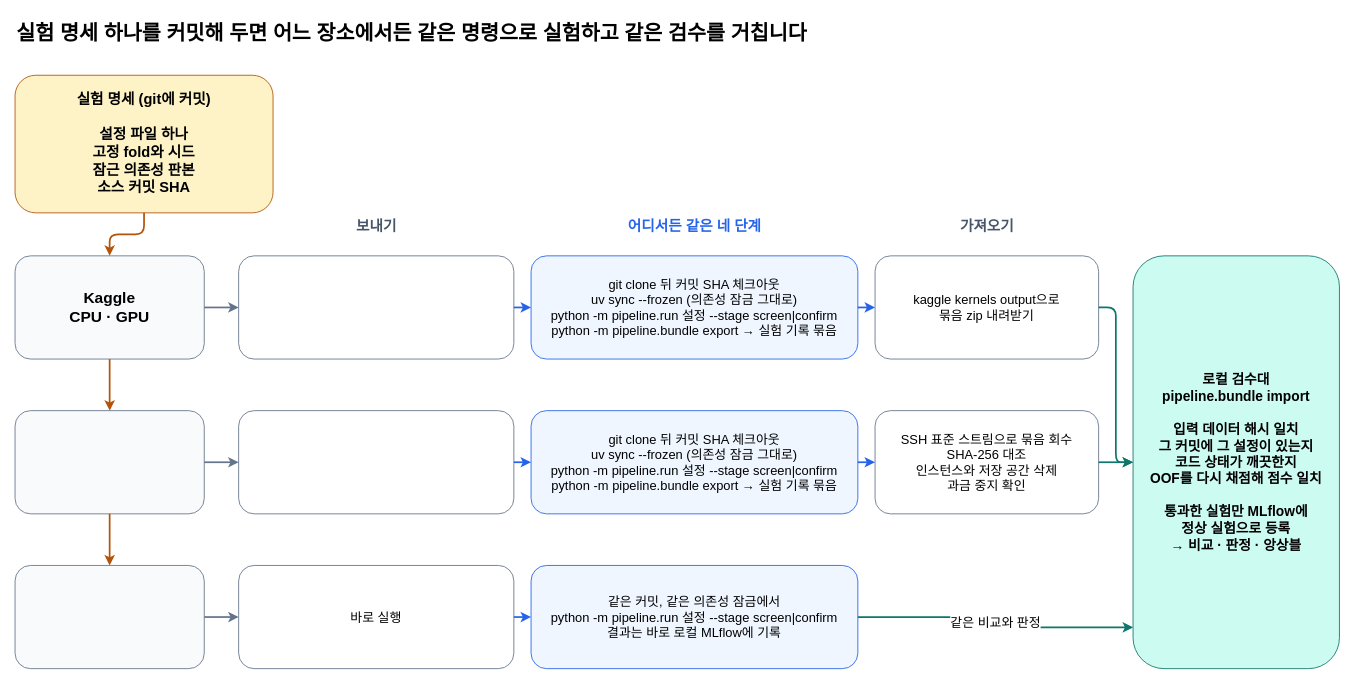
The diagram is 1355 pixels wide and 684 high, and some of its shapes have lost their labels. The shapes that lost their labels are listed below. From the top down, each one's centre as x and y in pixels, then its label:
At pixel 376 307: "커밋 SHA, 설정 파일 이름, 단계만 적은 작은 스크립트를 kaggle kernels push".
At pixel 109 462: "Vast.ai · Runpod 빌린 GPU".
At pixel 376 462: "vastai 명령줄 도구로 매물 검색과 인스턴스 생성 SSH 표준 스트림으로 입력 전송, SHA-256 대조 독립 종료 예약 등록".
At pixel 109 617: "로컬 CPU 노트북".
